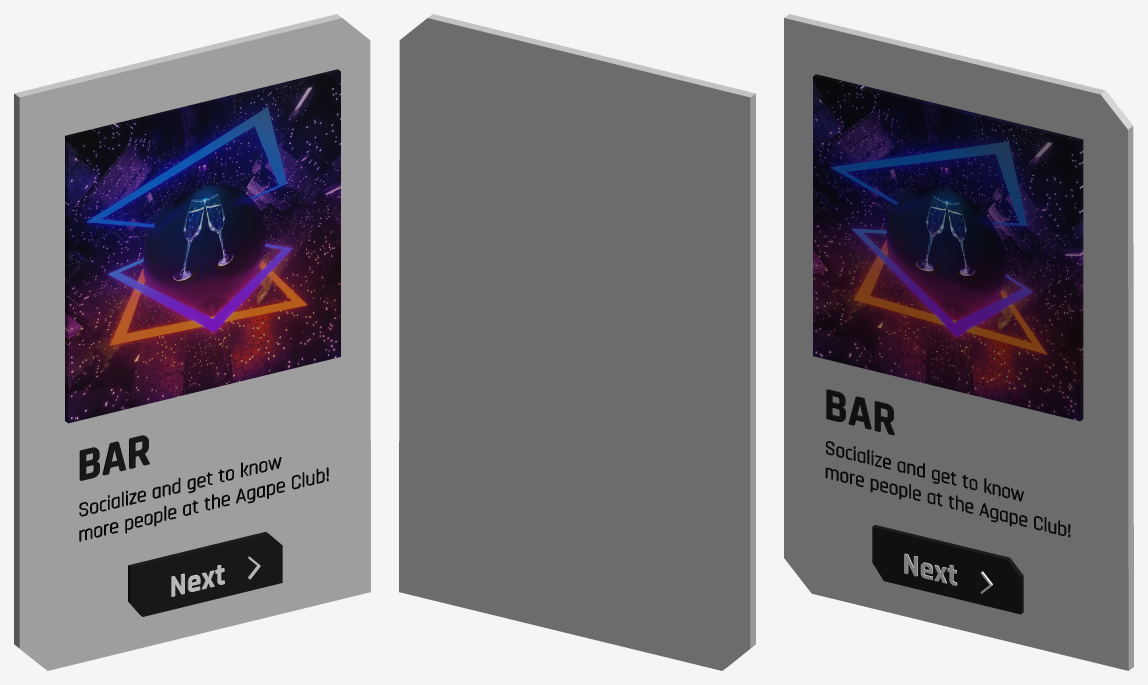
File: yo-cards-animation1-compressed.glb
3 renders of one model, left to right at view 1: azimuth 30°, elevation 25°; view 2: azimuth 150°, elevation 25°; view 3: azimuth 330°, elevation 25°, orthographic. The views are drawn at different scales.
Visible parts, largest first — view 1: Path.003, Bar_cropped.003, Curve.011, Text.010, Text.011, Text.009; view 2: Path.003; view 3: Path.003, Bar_cropped.003, Curve.011, Text.010, Text.011, Text.009.
Part boxes in pixels (bbox=[...]): Path.003: bbox=[14, 14, 370, 670]; Bar_cropped.003: bbox=[65, 69, 340, 423]; Curve.011: bbox=[128, 531, 282, 616]; Text.010: bbox=[79, 457, 328, 541]; Text.011: bbox=[79, 435, 149, 480]; Text.009: bbox=[171, 565, 224, 596]; Path.003: bbox=[399, 14, 755, 670]; Path.003: bbox=[784, 14, 1133, 670]; Bar_cropped.003: bbox=[813, 74, 1083, 421]; Curve.011: bbox=[872, 525, 1023, 614]; Text.010: bbox=[825, 441, 1070, 537]; Text.011: bbox=[826, 389, 894, 435]; Text.009: bbox=[904, 553, 957, 585].
Size of the model in its own units: 3.89 by 6.14 by 0.3885.
Materials: 6 (1 with a texture image).
